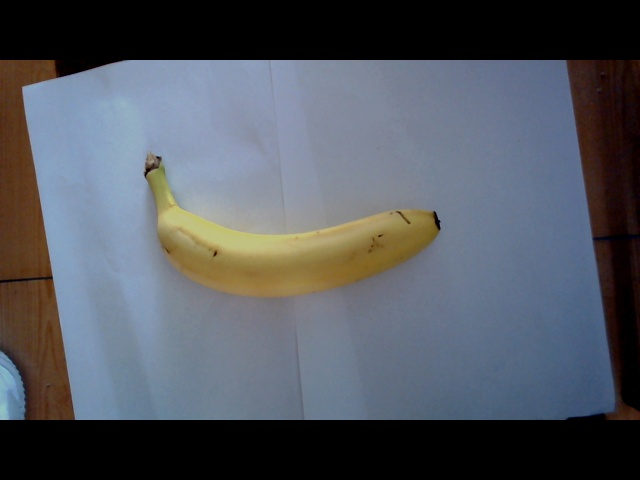banana: (137, 170, 449, 293)
